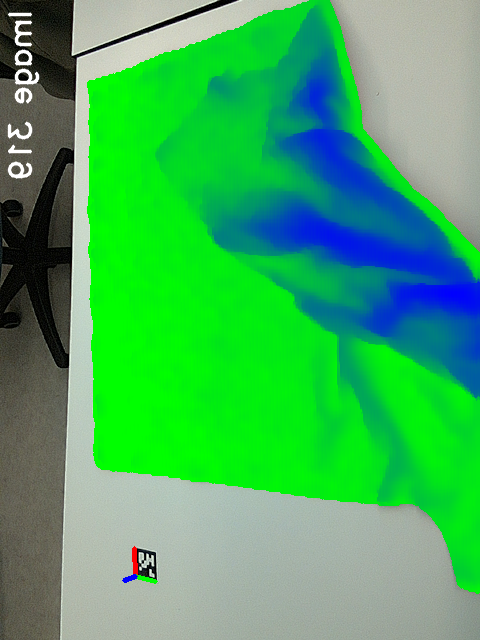V: (144, 130, 198, 181)
